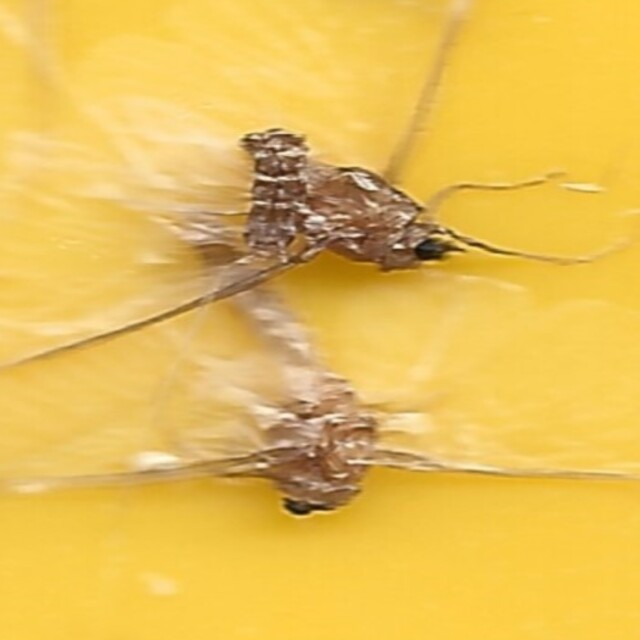Ephemeroptera: (184, 232, 375, 518), (226, 122, 456, 271)
